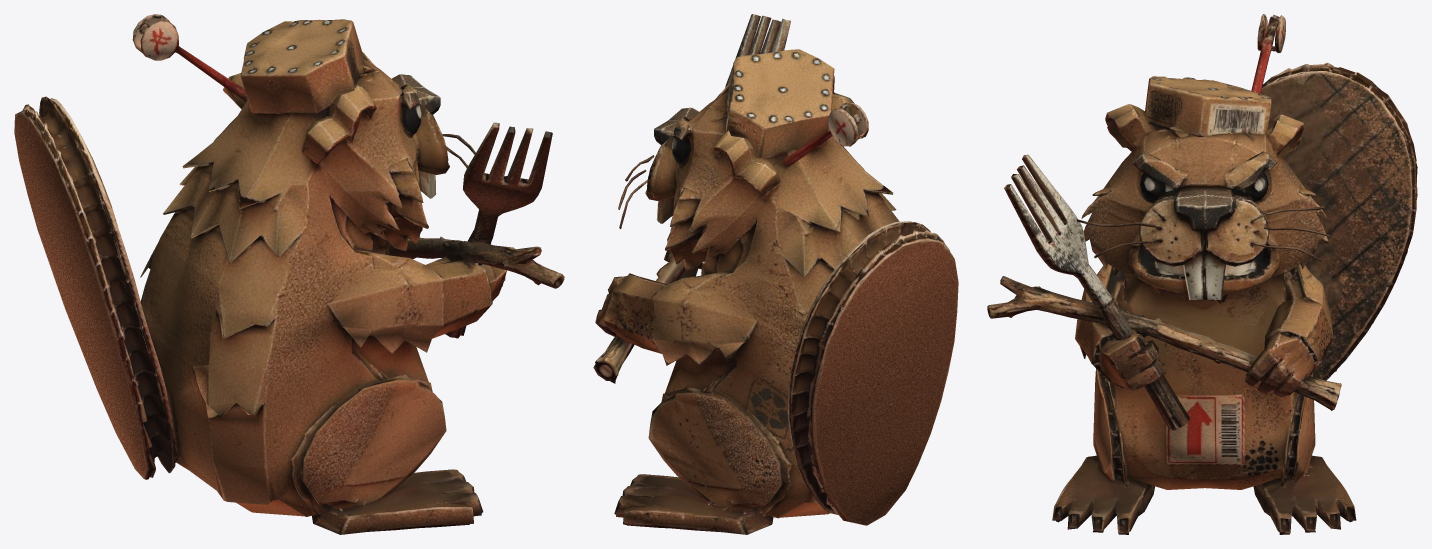
3 renders of one model, left to right at view 1: azimuth 30°, elevation 25°; view 2: azimuth 150°, elevation 25°; view 3: azimuth 270°, elevation 25°, orthographic. The views are drawn at different scales.
Visible parts, largest first — view 1: tripo_node_6103d7e1-01b2-4064-8a34-61e58f057686; view 2: tripo_node_6103d7e1-01b2-4064-8a34-61e58f057686; view 3: tripo_node_6103d7e1-01b2-4064-8a34-61e58f057686.
Part boxes in pixels (bbox=[...]): tripo_node_6103d7e1-01b2-4064-8a34-61e58f057686: bbox=[14, 14, 564, 534]; tripo_node_6103d7e1-01b2-4064-8a34-61e58f057686: bbox=[593, 14, 958, 534]; tripo_node_6103d7e1-01b2-4064-8a34-61e58f057686: bbox=[987, 14, 1417, 534].
Size of the model in its own units: 0.8005 by 0.9767 by 0.902.
Materials: 1 (1 with a texture image).
